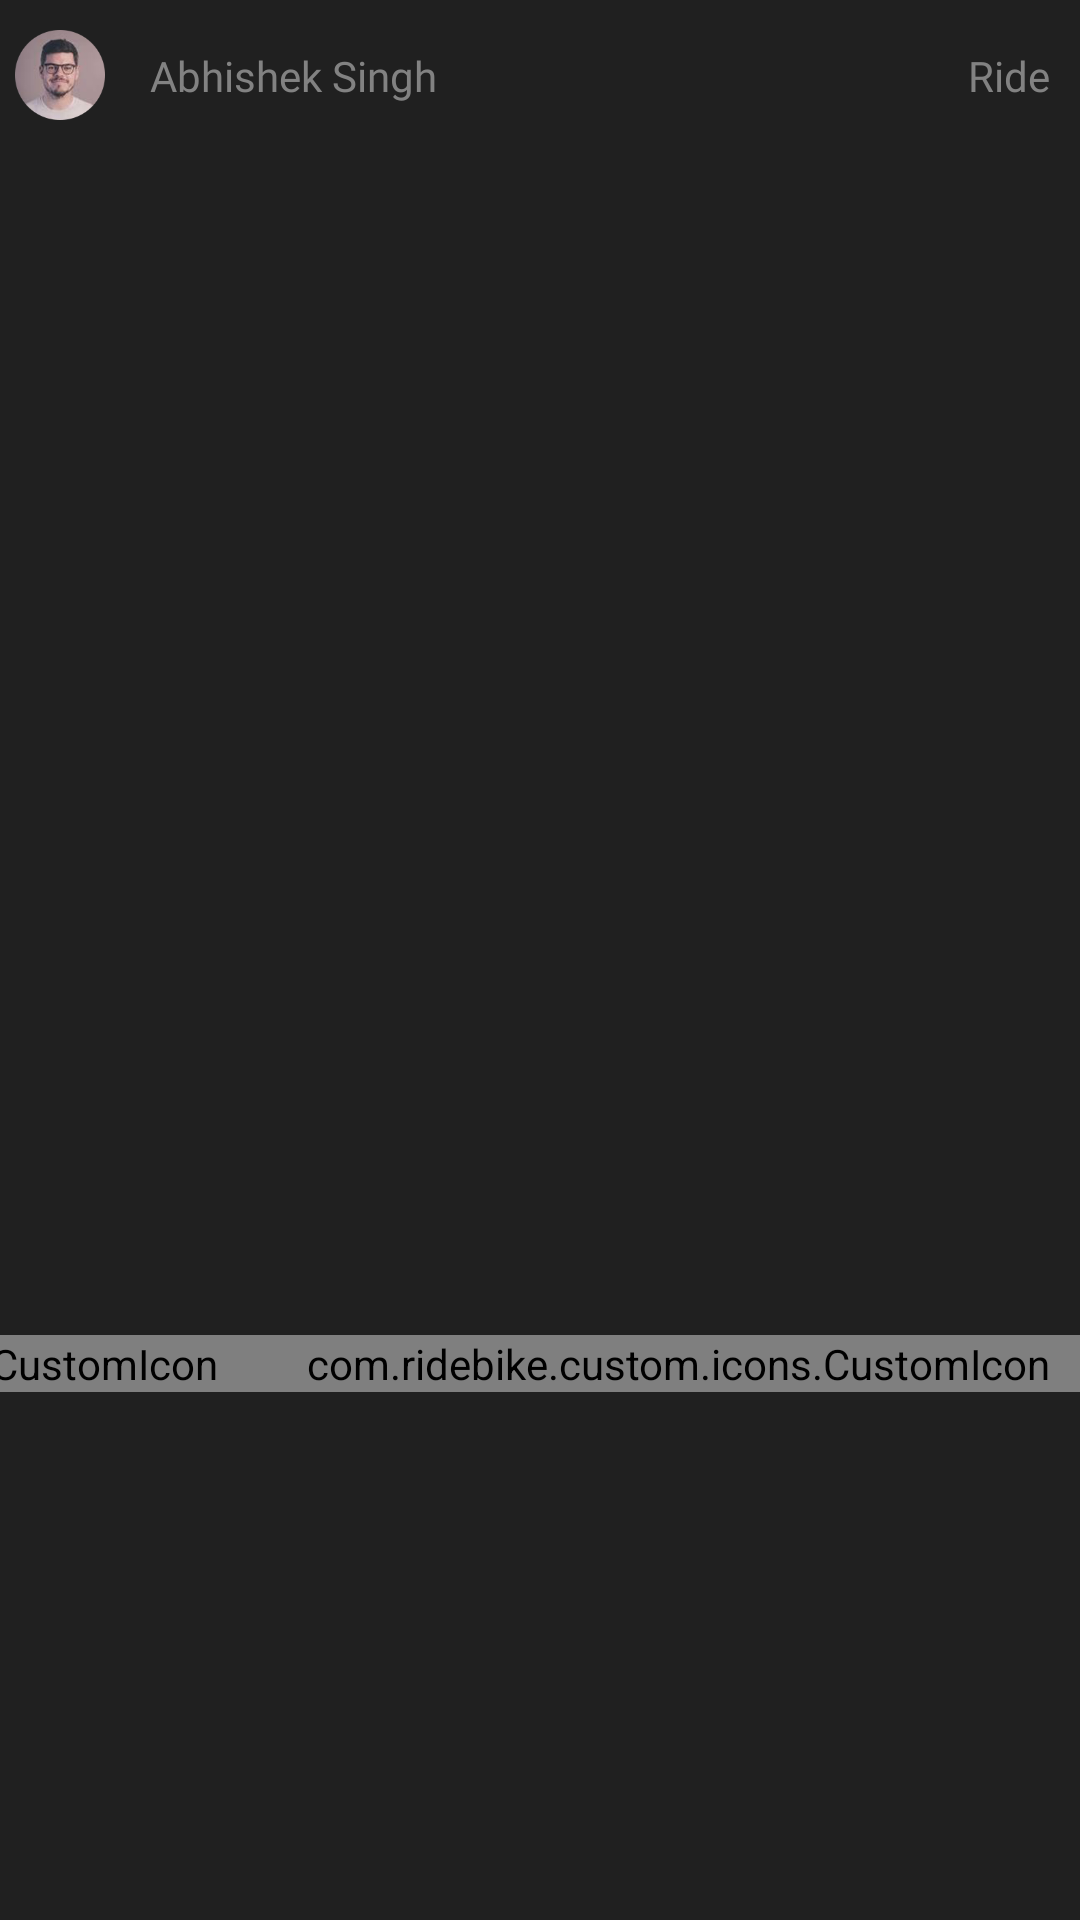

Where icons sit on this 1080×1920 app screen, as bbox=(x1, y1, x2, y2):
friend one: bbox=(15, 30, 105, 120)
